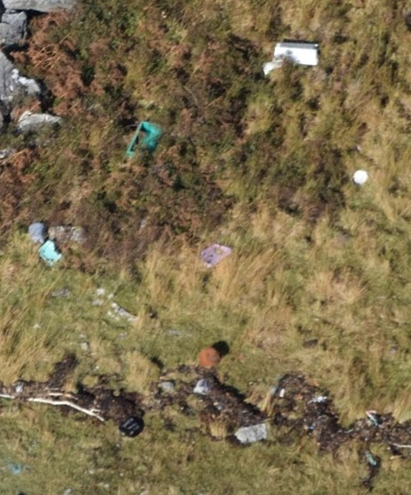scattered_barrel: (113, 30, 378, 190), (17, 214, 245, 371)
white_in_green: (97, 392, 166, 451), (178, 329, 242, 386)
